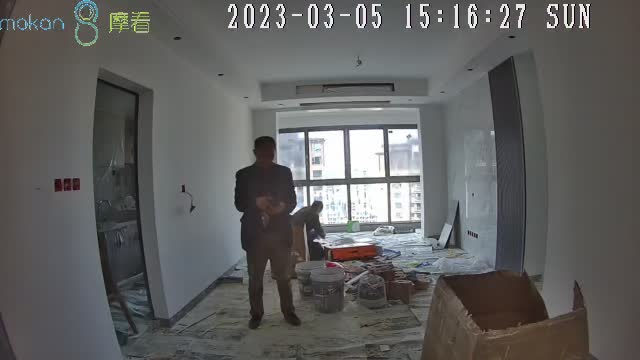people: (233, 134, 304, 330), (294, 201, 326, 257)
window: (277, 125, 423, 225)
